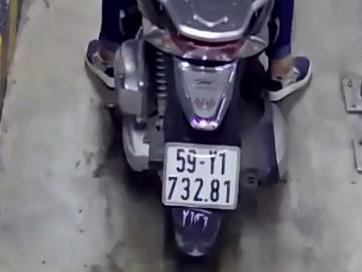num_plate: (160, 142, 240, 209)
